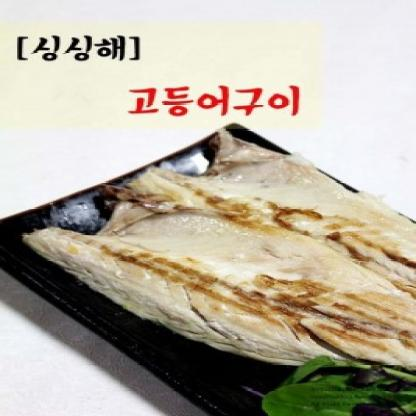Peixe: (19, 124, 416, 374)
